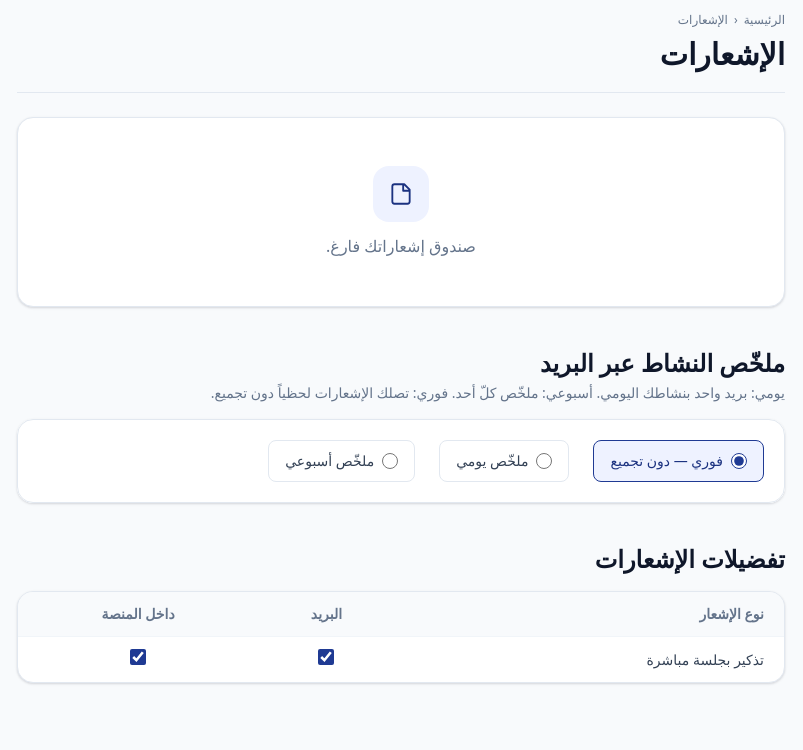
Test: NotificationsPage — رسائل الحالة بعد الحفظ › يعرض رسالة نجاح (role=status) بعد الحفظ الناجح
Click the radio button labelled "ملخّص يومي". click: x=544, y=461
box: [536,453,552,469]
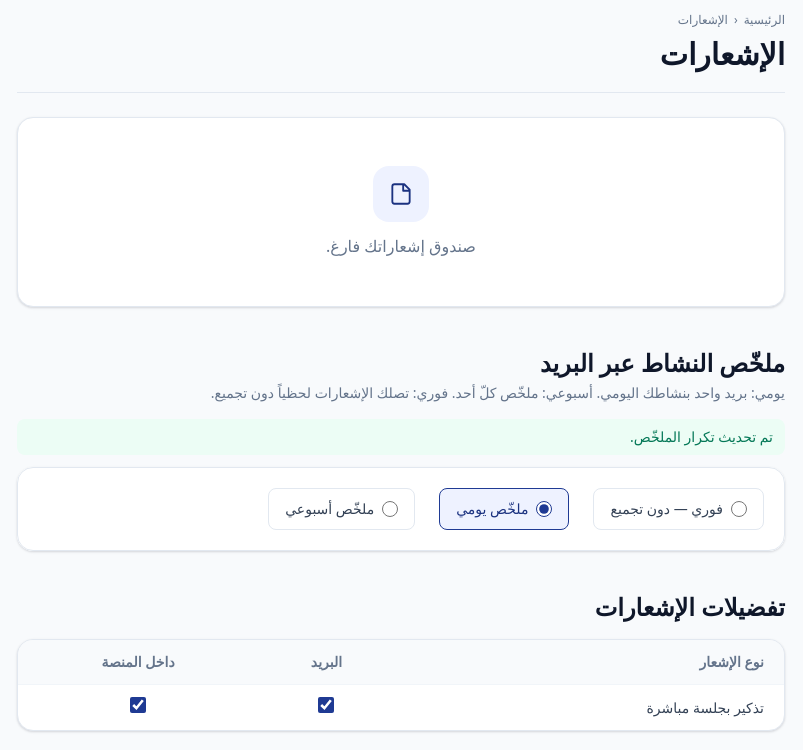
Result: the message "تم تحديث تكرار الملخّص." is shown at [17,419,785,455]
